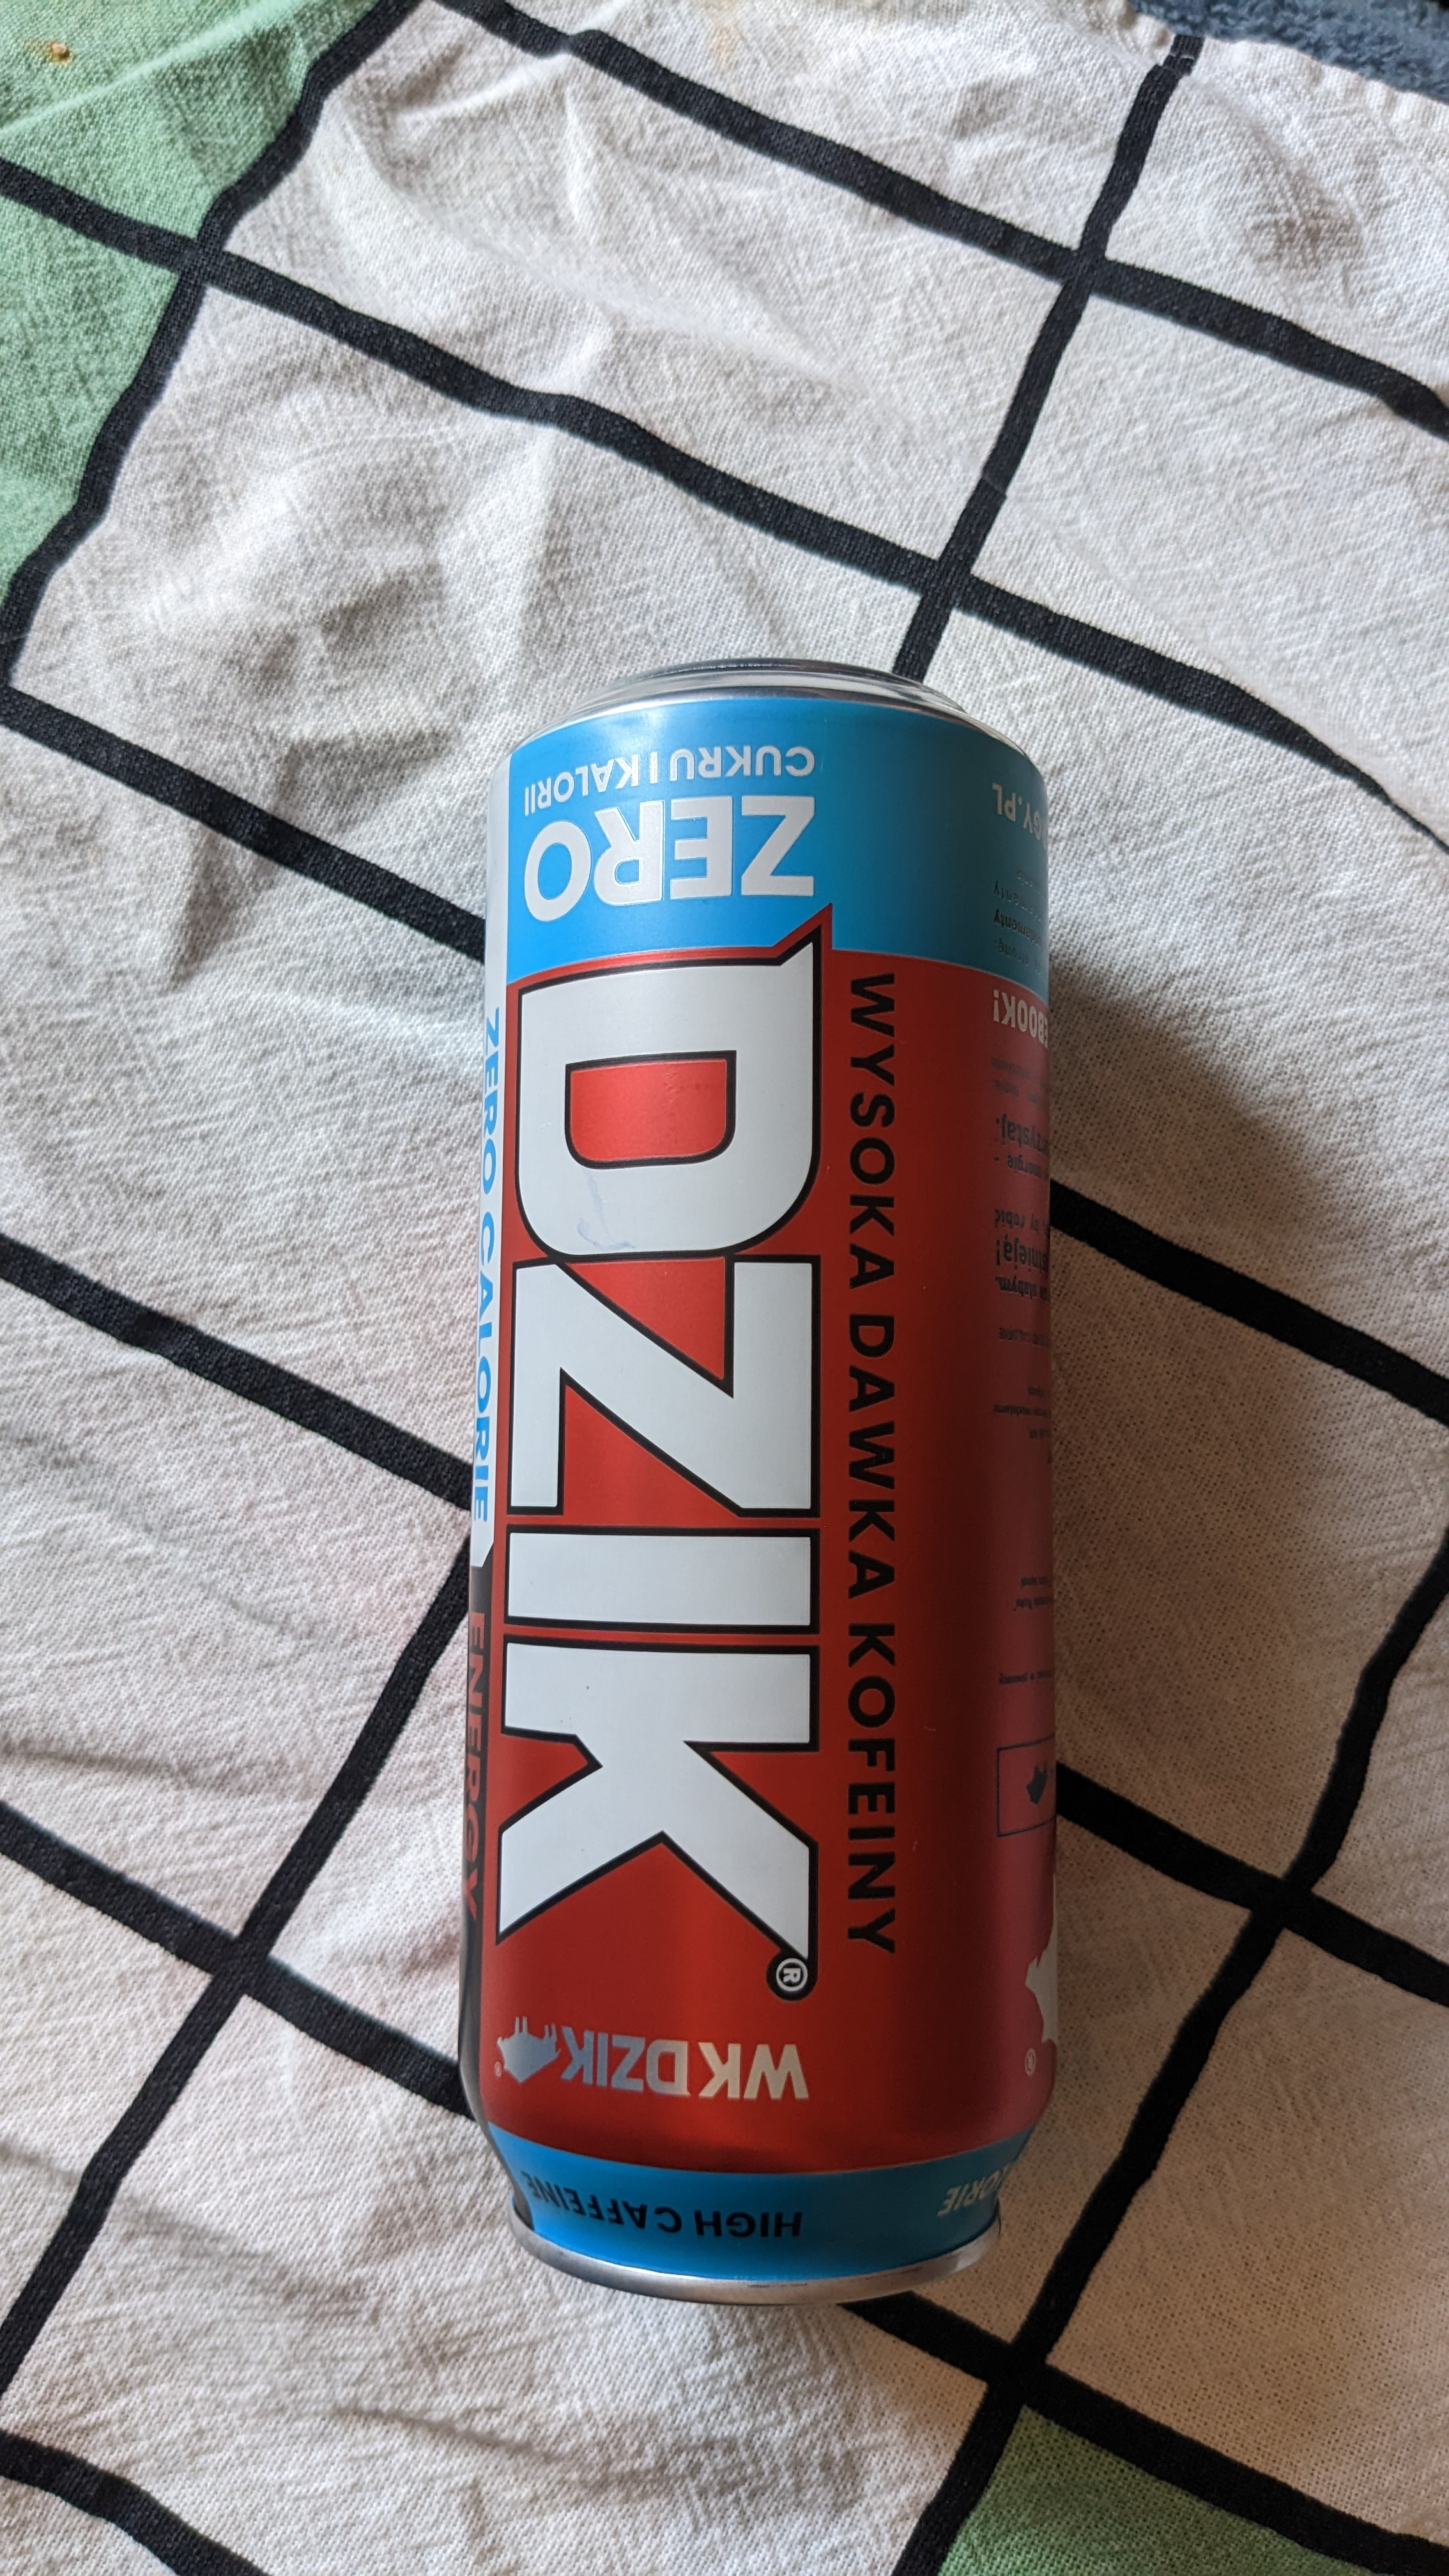dzik: (472, 656, 1062, 2330)
